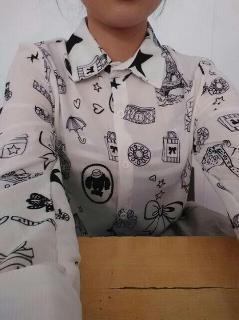long sleeve top: (0, 16, 239, 319)
